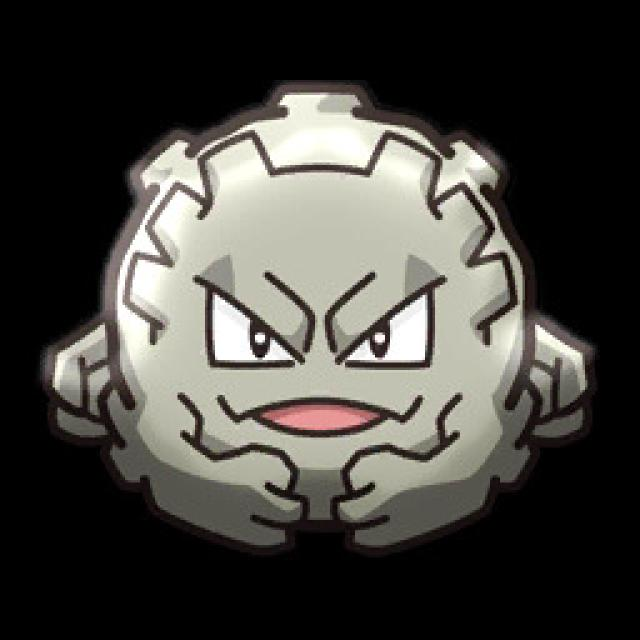Graveler: (48, 65, 607, 572)
